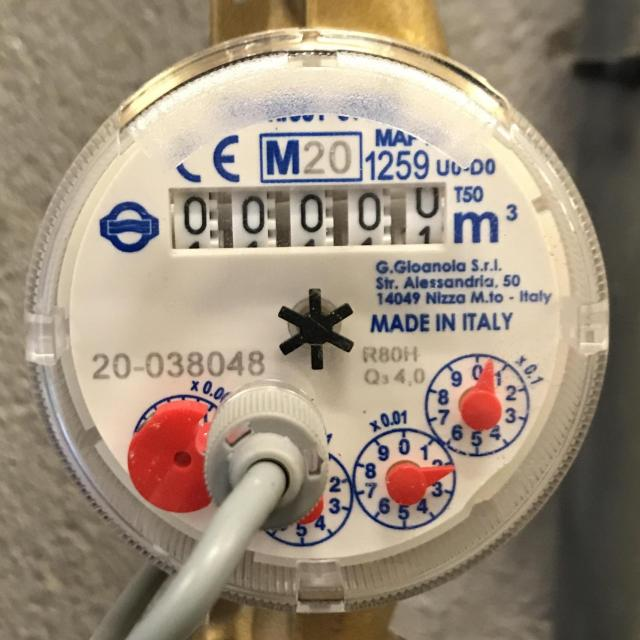gaz_meter: (17, 31, 606, 611)
indication: (168, 183, 449, 250)
